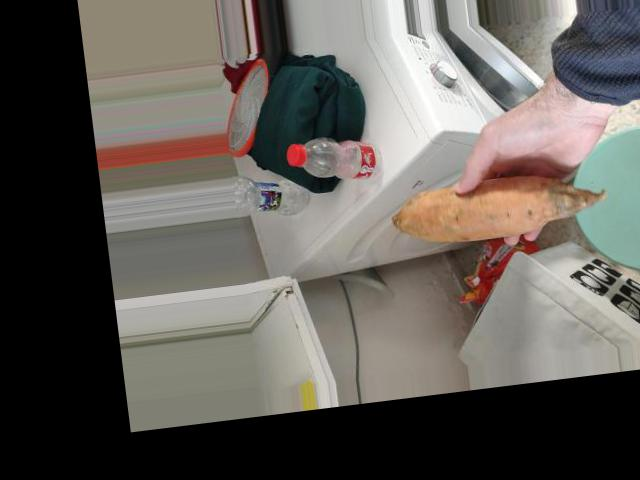sweet_potato: (417, 172, 578, 237)
